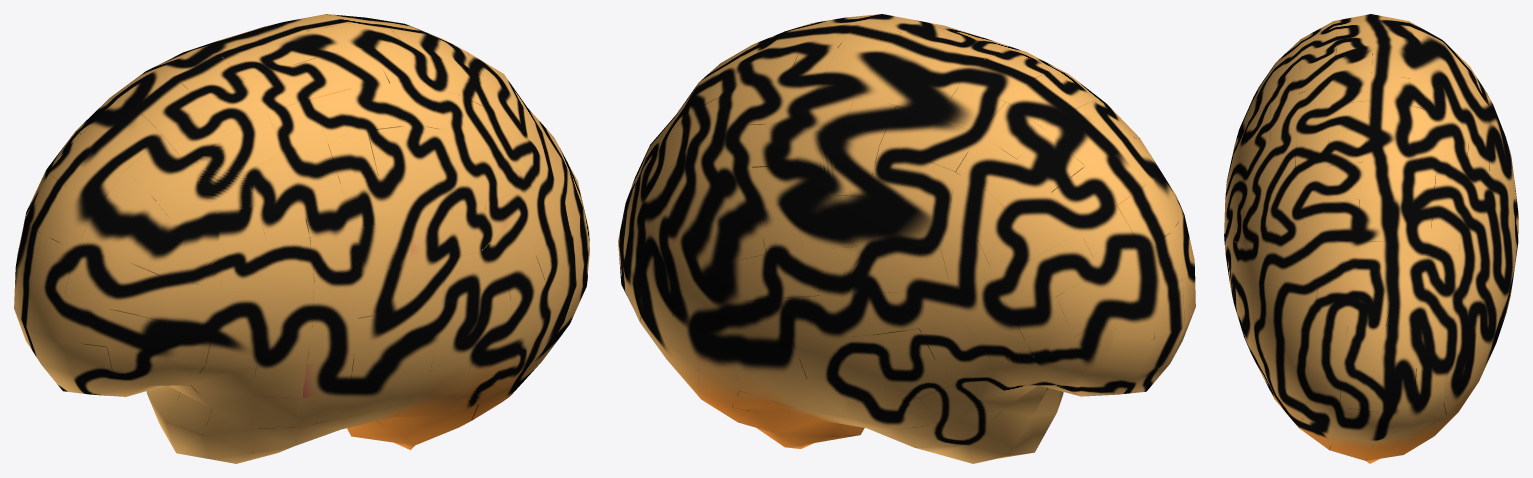
Rendered from brain_low_glb.gltf.
3 views of the same model, side by side, from view 1: azimuth 30°, elevation 25°; view 2: azimuth 150°, elevation 25°; view 3: azimuth 270°, elevation 25° (orthographic). The views are drawn at different scales.
Visible parts, largest first — view 1: мозги; view 2: мозги; view 3: мозги.
Boxes of the visible parts, left/top/right/bottom form: мозги: left=14, top=14, right=589, bottom=463; мозги: left=618, top=14, right=1195, bottom=463; мозги: left=1224, top=14, right=1518, bottom=463.
Bounding box in the file's own units: 7.86 × 6.05 × 4.38.
Materials: 1 (1 with a texture image).
